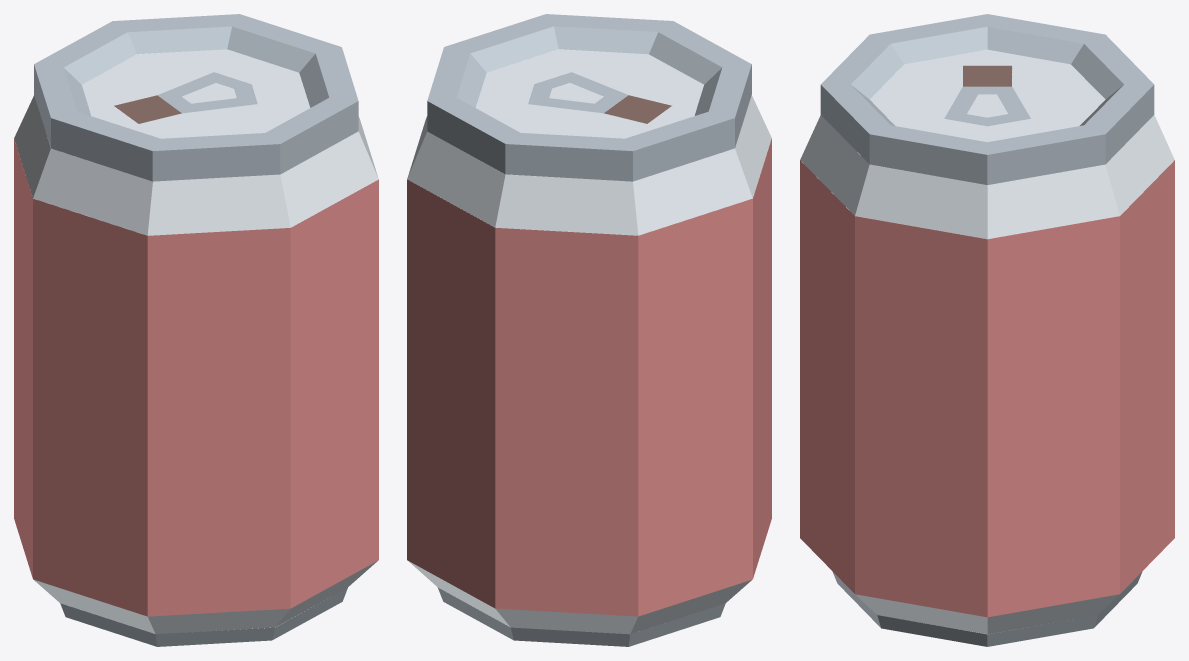
Rendered from soda-can.glb.
3 views of the same model, side by side, from view 1: azimuth 30°, elevation 25°; view 2: azimuth 150°, elevation 25°; view 3: azimuth 270°, elevation 25° (orthographic).
Visible parts, largest first — view 1: sodaCan; view 2: sodaCan; view 3: sodaCan.
Boxes of the visible parts, x1,y1,x2,y2 form: sodaCan: (14, 14, 378, 646); sodaCan: (407, 14, 771, 646); sodaCan: (800, 14, 1174, 646).
Bounding box in the file's own units: 0.2246 × 0.33 × 0.2246.
